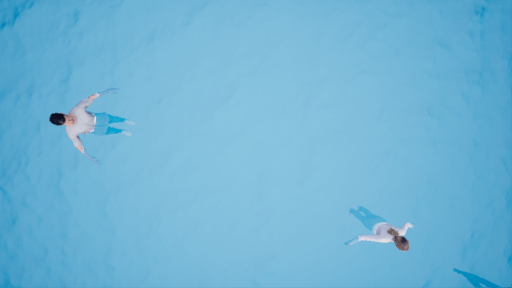person: (49, 85, 136, 165), (337, 199, 417, 252)
